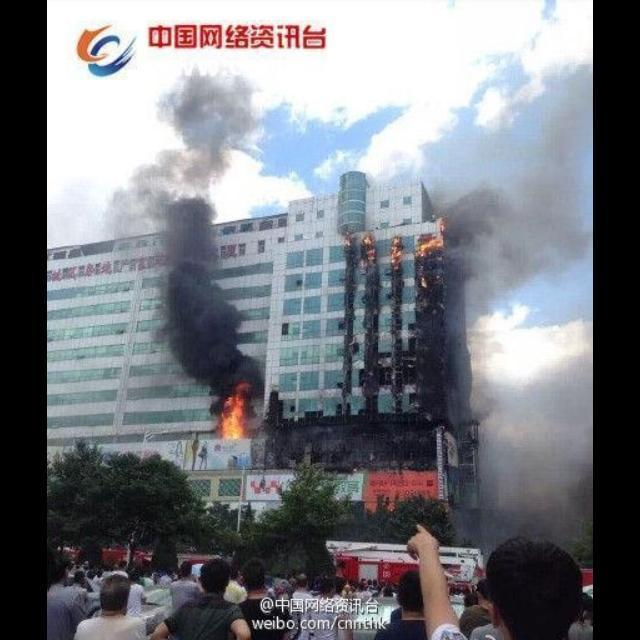Fire: (414, 219, 448, 259), (220, 395, 246, 441), (362, 237, 378, 265), (390, 235, 404, 263)
Smoke: (444, 72, 594, 564), (102, 74, 268, 416)
